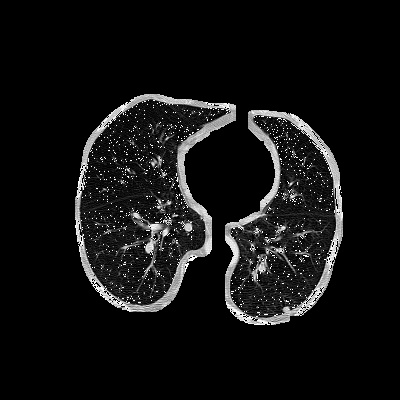PN: (282, 305, 290, 313)
